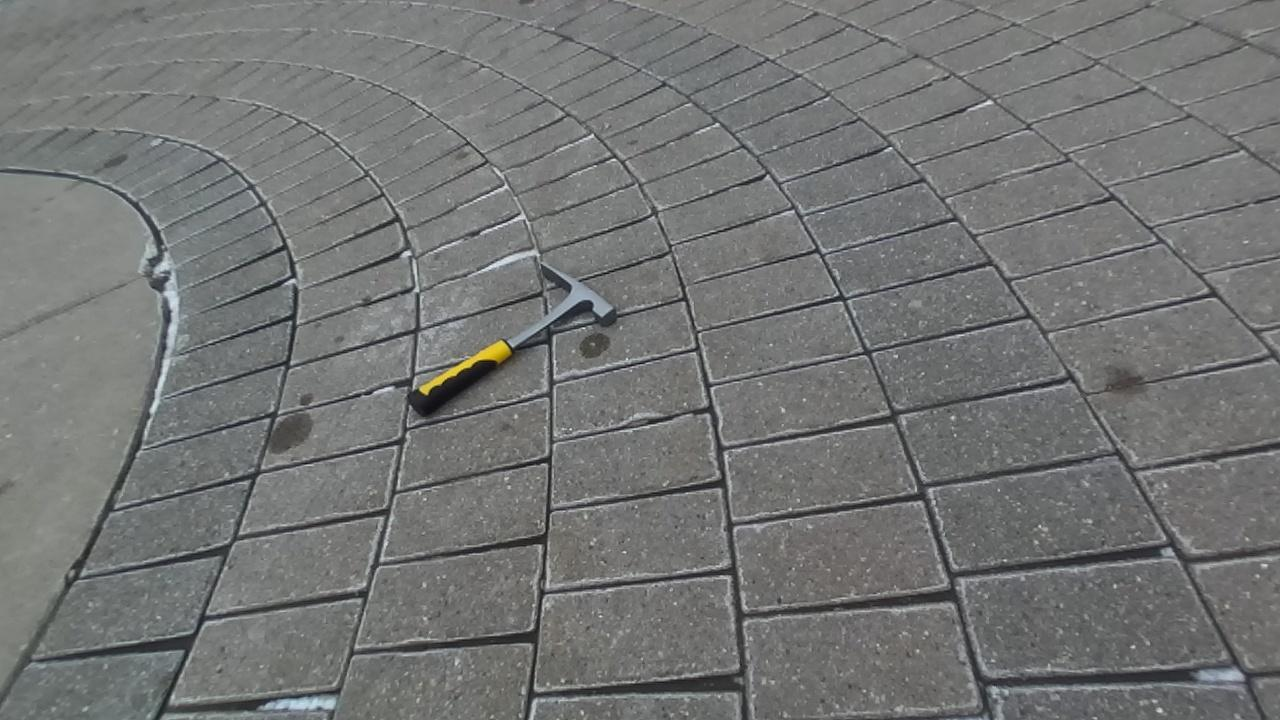pick: (407, 264, 615, 416)
